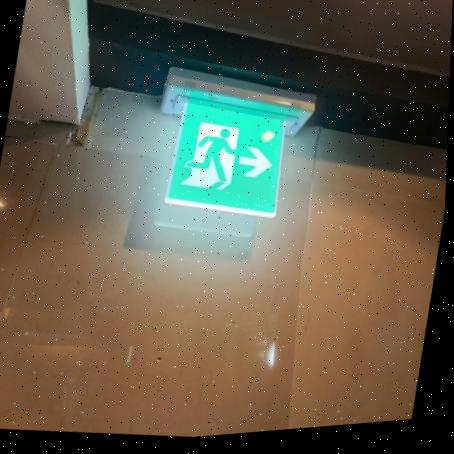emergency_exit: (164, 92, 289, 219)
